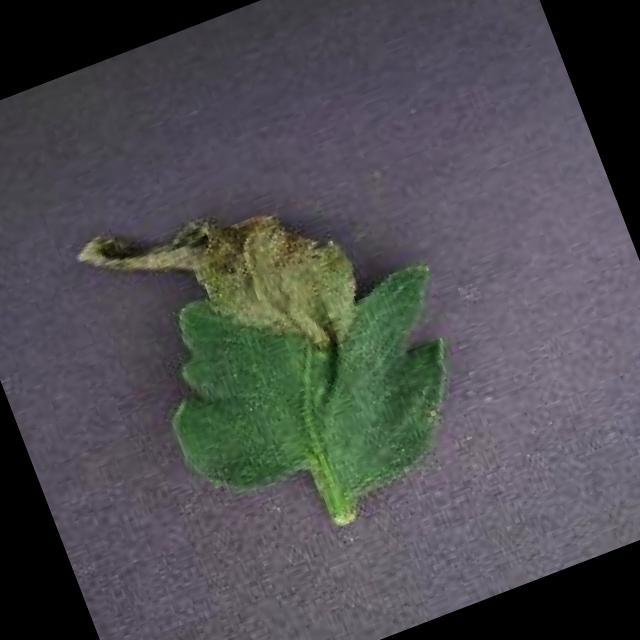Tomato late blight leaf: (72, 127, 497, 558)
